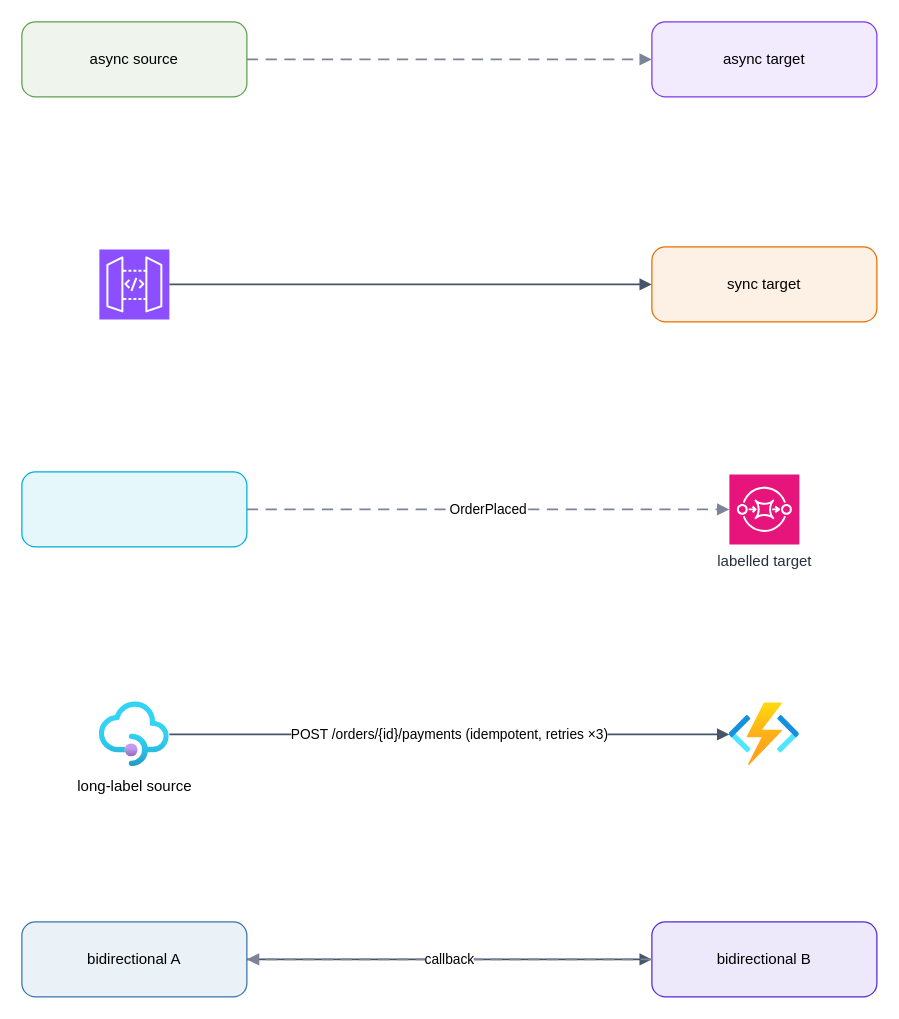
Image size: 899x1019. Some labels were removed from this diagram. The box of each missing label's shape, as (x1, y1, x2, y2) in pixels:
labelled source: (21, 471, 247, 547)
long-label target: (729, 699, 799, 769)
sync source: (98, 248, 169, 319)
